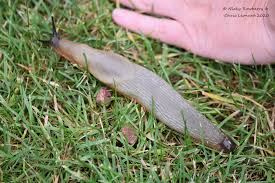slug: (43, 23, 235, 154)
